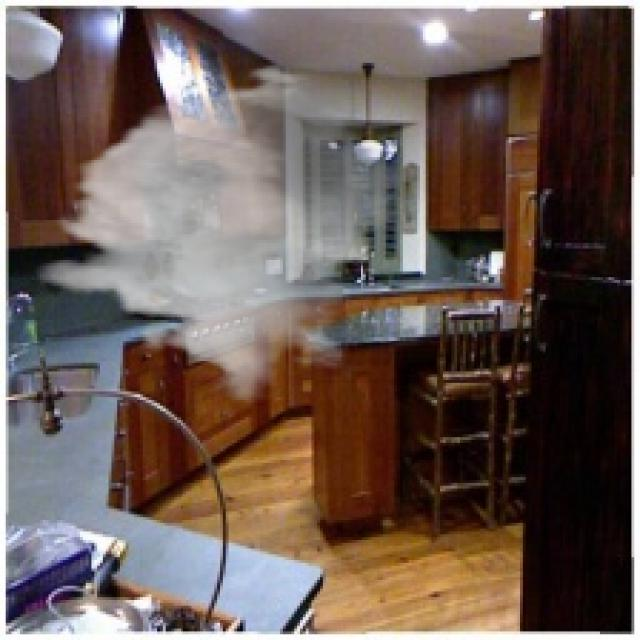smoke: (34, 60, 420, 403)
